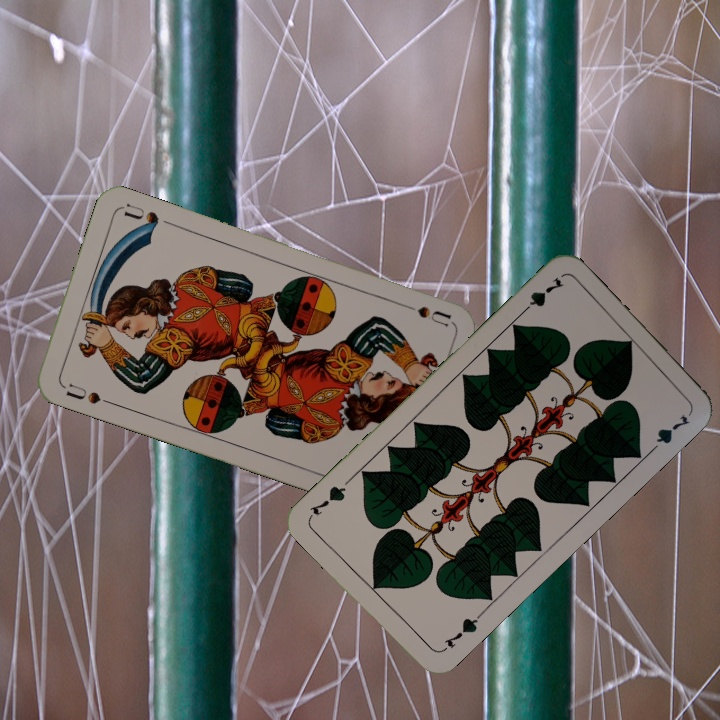G7: (516, 273, 567, 318), (437, 610, 484, 655)
SU: (393, 298, 453, 329), (58, 379, 116, 408)
